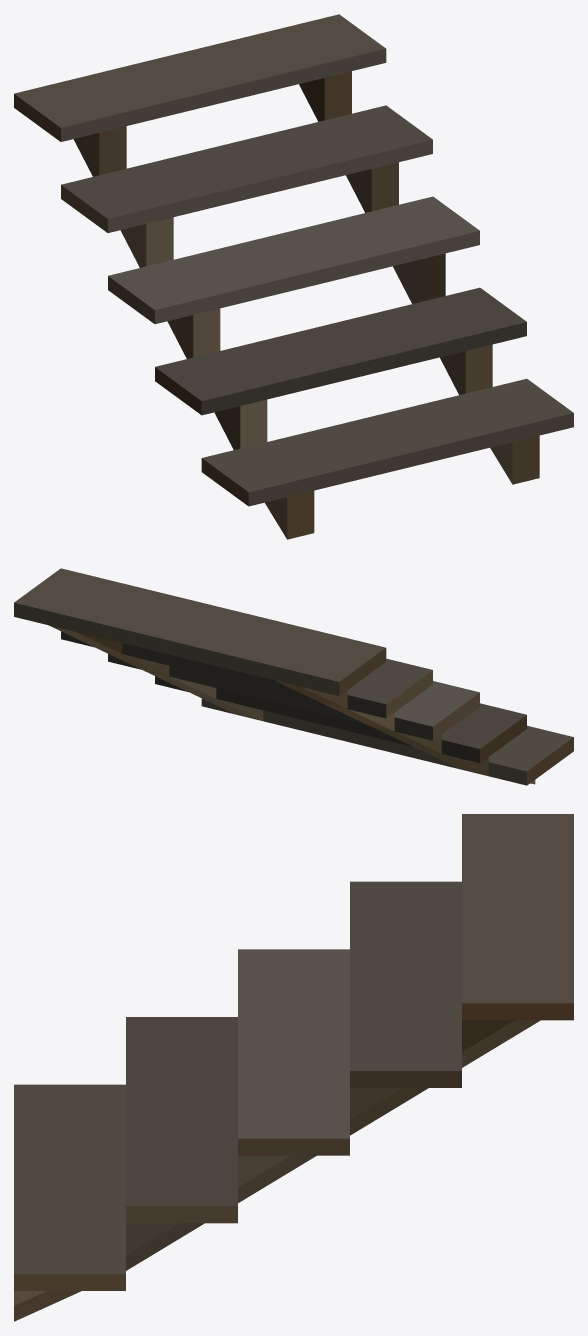
The model's file is StepsB_Door1m.fbx.
The picture shows the model from 3 angles, top to bottom: view 1: azimuth 30°, elevation 25°; view 2: azimuth 150°, elevation 25°; view 3: azimuth 270°, elevation 25°; orthographic projection. The views are drawn at different scales.
Parts seen in each view (by area): view 1: StepsB_Door1m; view 2: StepsB_Door1m; view 3: StepsB_Door1m.
Boxes of the visible parts, <box> form: StepsB_Door1m: <box>14,14,573,539</box>; StepsB_Door1m: <box>14,568,573,785</box>; StepsB_Door1m: <box>14,814,573,1321</box>.
Bounding box in the file's own units: 120 × 100 × 150.
